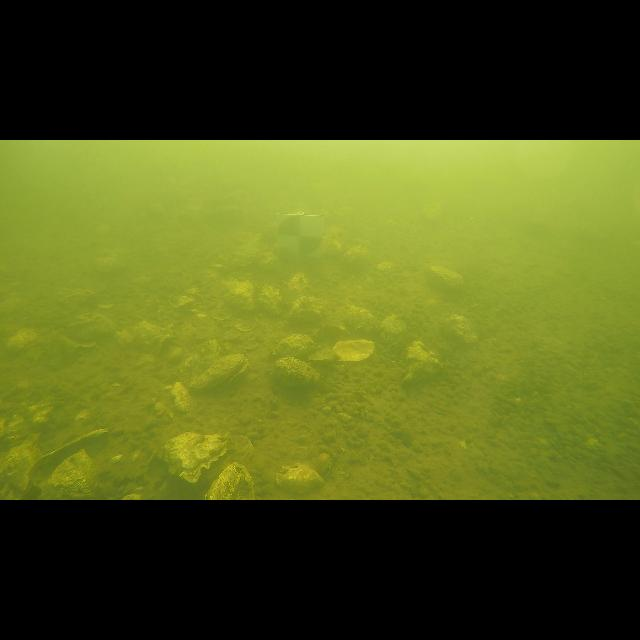Oyster-Closed: (165, 432, 231, 482), (0, 434, 41, 499), (190, 354, 249, 391), (49, 452, 95, 497), (205, 462, 255, 500), (178, 338, 223, 378), (118, 321, 174, 352), (404, 340, 440, 384), (68, 312, 116, 344), (272, 356, 320, 386), (276, 464, 324, 494), (440, 314, 479, 346), (272, 334, 318, 359), (428, 265, 464, 295), (345, 305, 381, 334), (224, 280, 254, 310), (285, 272, 311, 301), (258, 285, 282, 315), (6, 329, 38, 351)
Oyster-Open: (35, 427, 107, 463), (332, 339, 375, 361)
